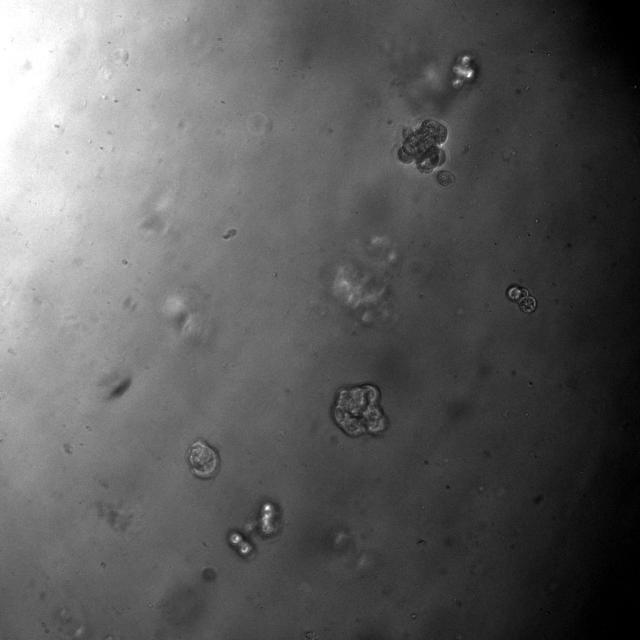organoid: (331, 383, 388, 436), (396, 118, 448, 173), (186, 440, 220, 479), (254, 501, 281, 538), (506, 284, 536, 313), (228, 530, 254, 559), (436, 170, 455, 187)
